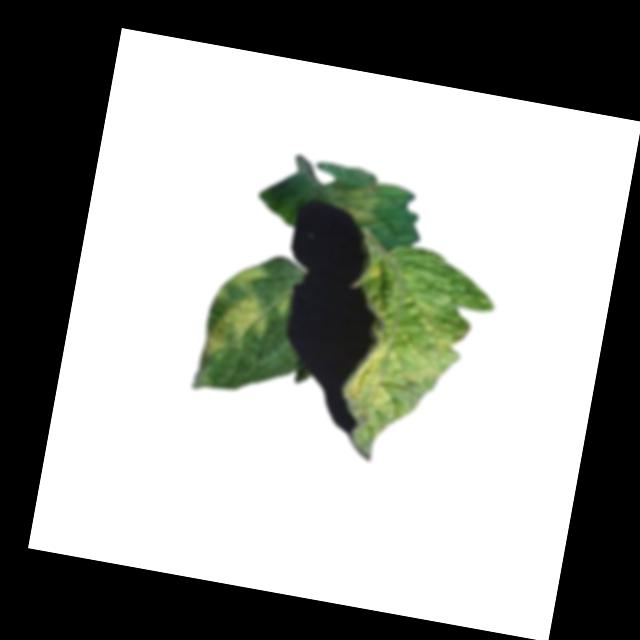Leaf_Mold: (336, 307, 462, 437), (199, 256, 276, 366), (327, 178, 382, 224)
